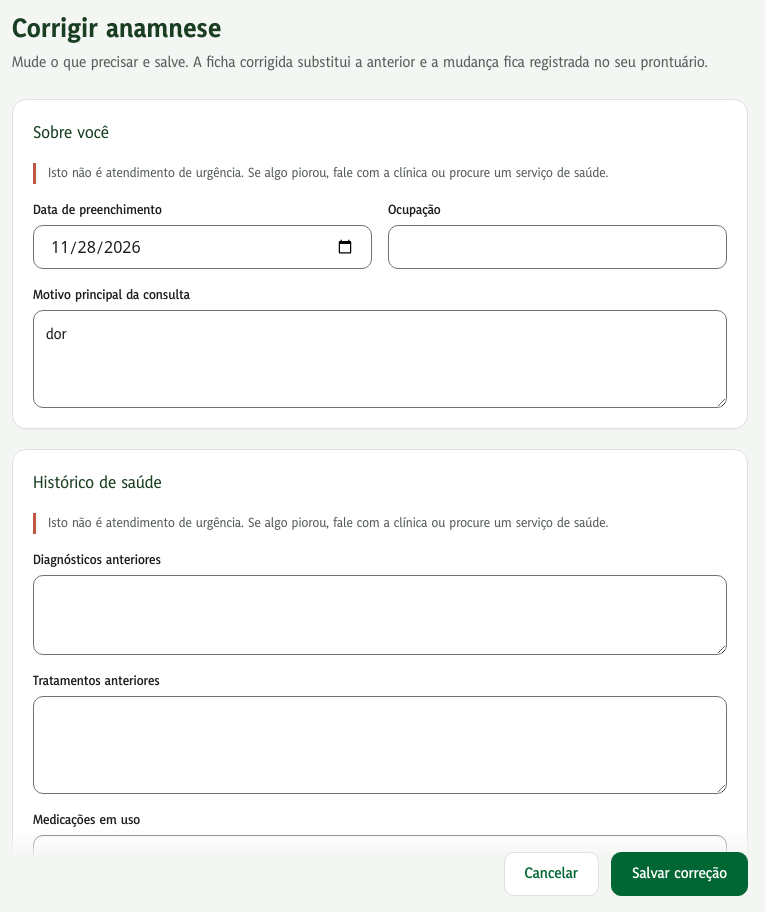
Scenario: Anamnese › na correcao o campo com erro tbm le o aviso de que nao e atendimento de urgencia
The image size is (765, 912).
Step 1. Click the button "Salvar correção" → (679, 874), box 611,852 -> 748,896
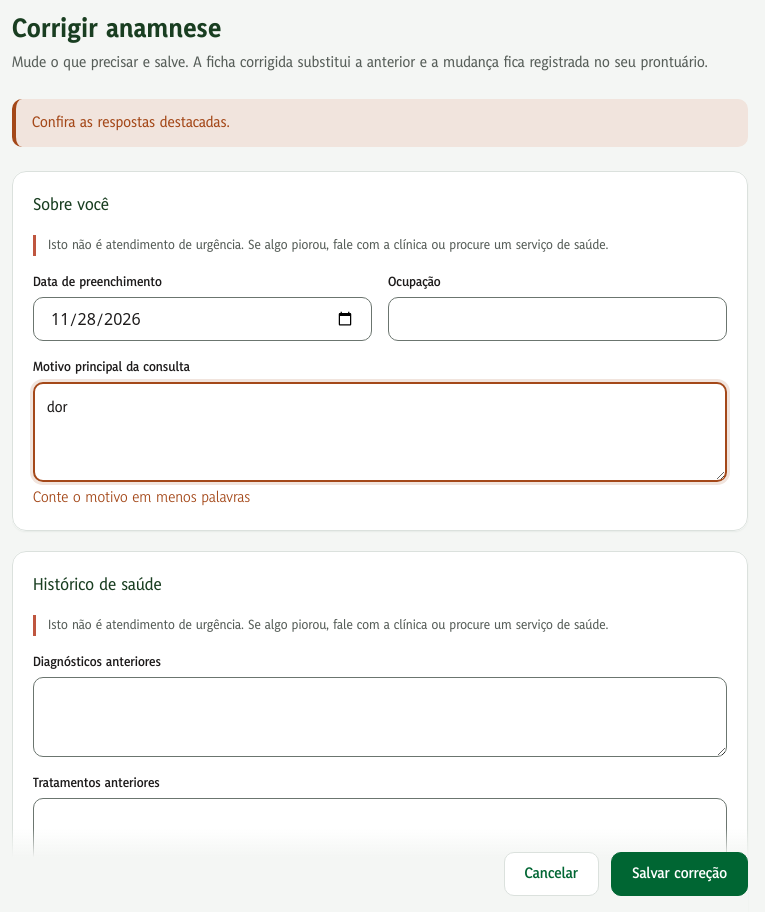
Expected: the text "Conte o motivo em menos palavras" is shown, 33,487 -> 250,508
